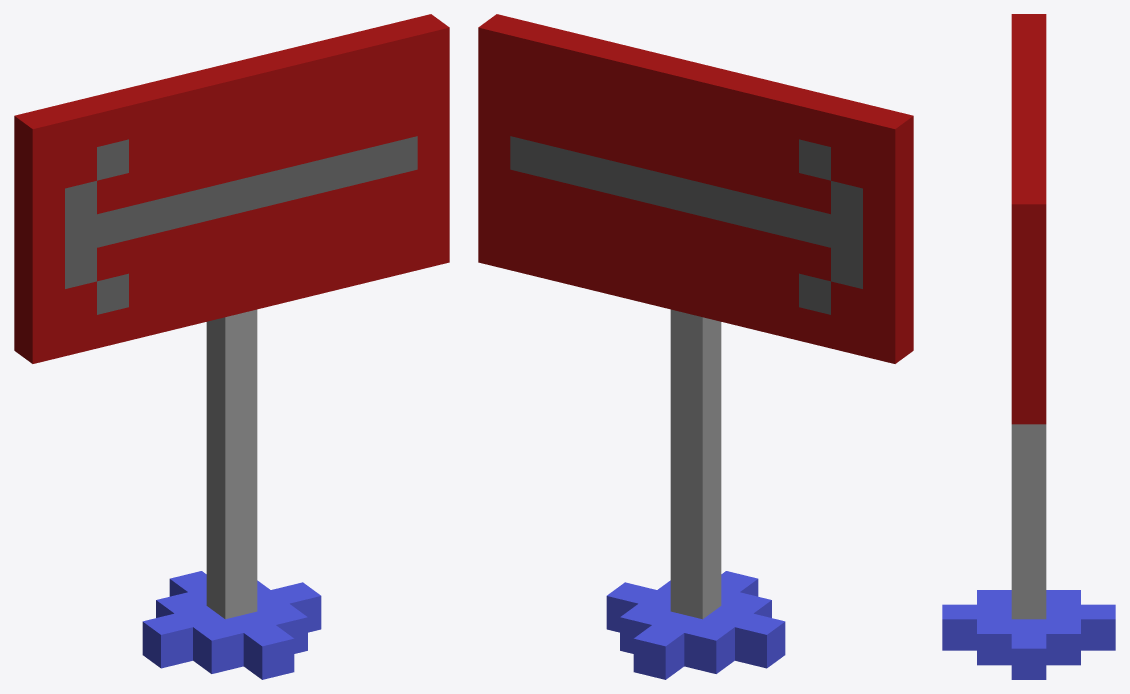
File: next level.obj
3 views of the same model, side by side, from view 1: azimuth 30°, elevation 25°; view 2: azimuth 150°, elevation 25°; view 3: azimuth 270°, elevation 25° (orthographic). The views are drawn at different scales.
Size of the model in its own units: 1.3 by 1.7 by 0.5.
